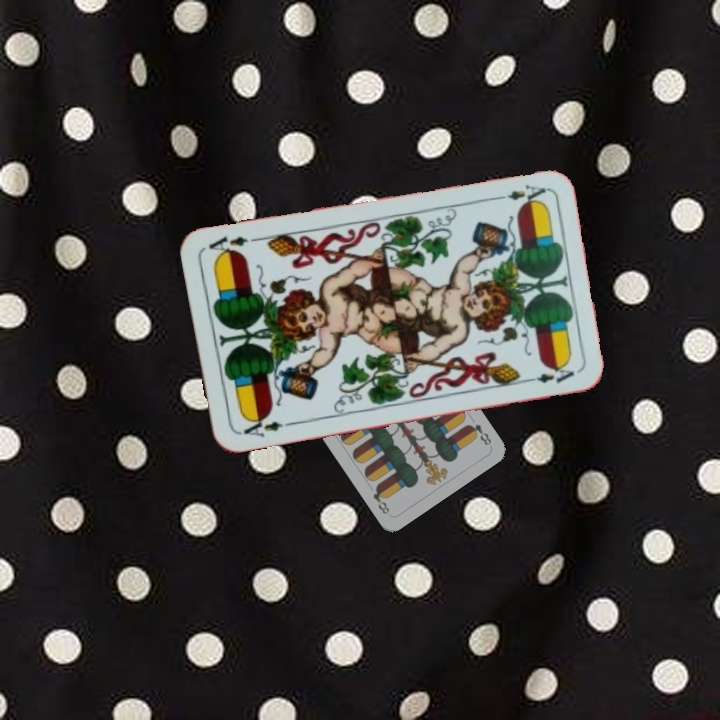E8: (463, 419, 494, 448)
EA: (236, 411, 295, 440), (489, 180, 549, 206)
